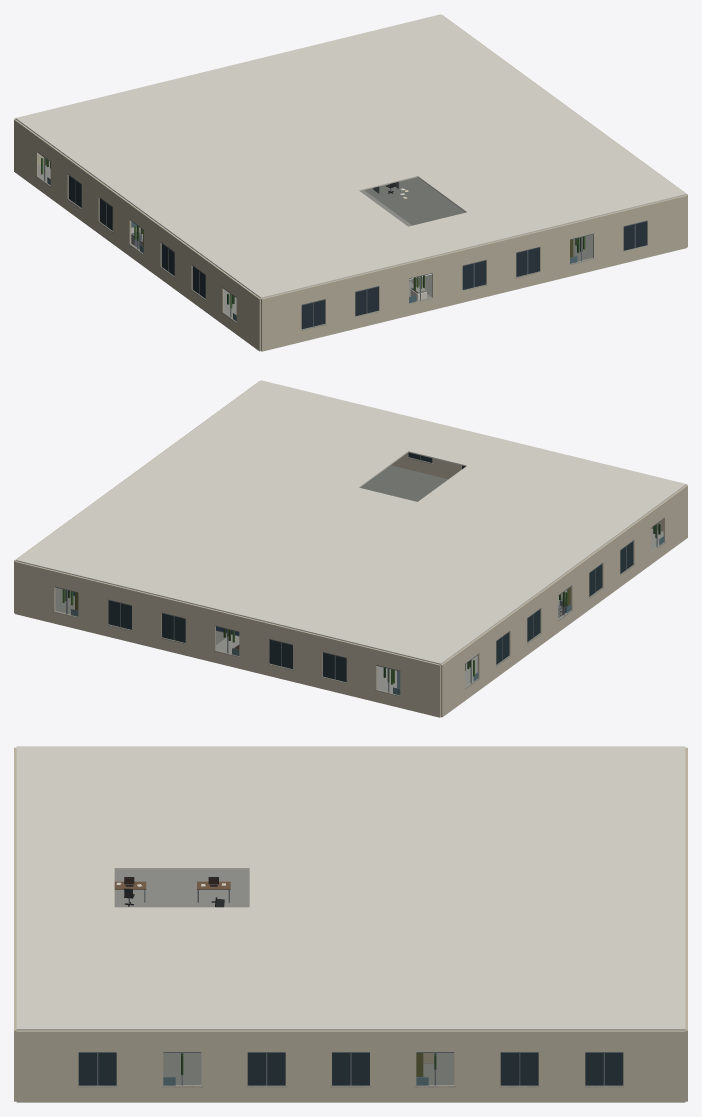
File: tw_interior_office_32.glb
The picture shows the model from 3 angles, top to bottom: view 1: azimuth 30°, elevation 25°; view 2: azimuth 150°, elevation 25°; view 3: azimuth 270°, elevation 25°; orthographic projection. The views are drawn at different scales.
Visible parts, largest first — view 1: tw_interior_office_32; view 2: tw_interior_office_32; view 3: tw_interior_office_32.
Boxes of the visible parts, box(x1,y1,x2,y2) form: tw_interior_office_32: box(14, 14, 687, 351); tw_interior_office_32: box(14, 380, 687, 717); tw_interior_office_32: box(14, 746, 687, 1102).
Size of what is drawn, in the model's own units: 32.33 by 3.82 by 31.94.
Materials: 3 (3 with a texture image).
